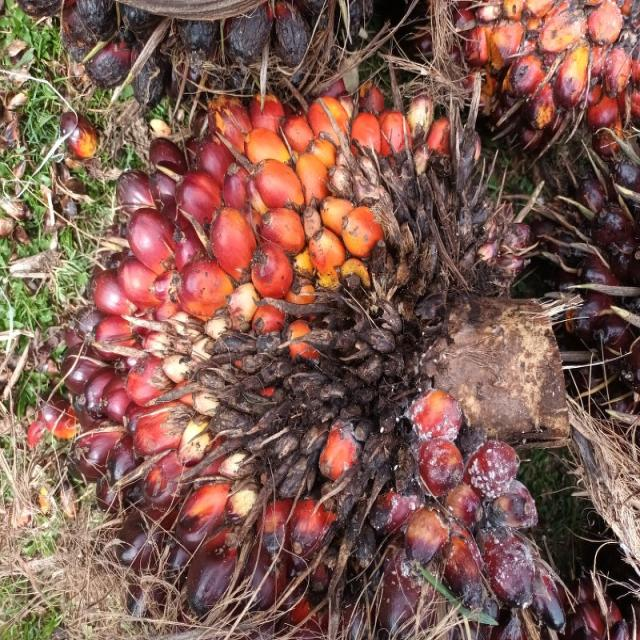fraksi 1: (36, 79, 598, 640)
